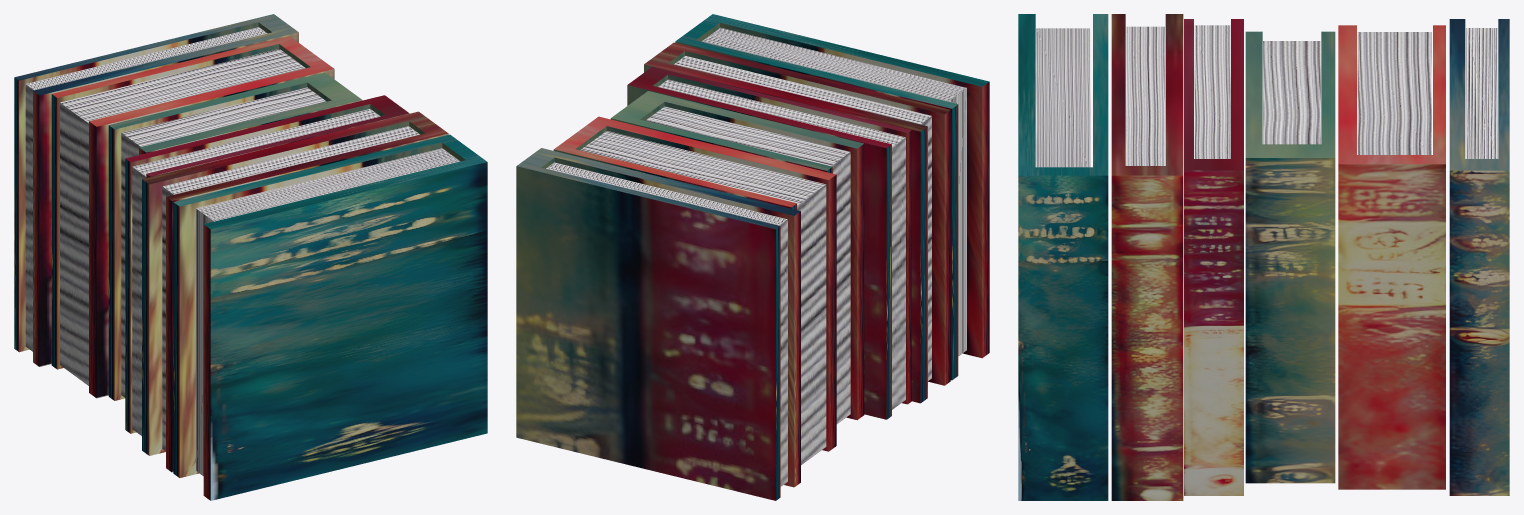
File: libros1.obj
3 views of the same model, side by side, from view 1: azimuth 30°, elevation 25°; view 2: azimuth 150°, elevation 25°; view 3: azimuth 270°, elevation 25° (orthographic). The views are drawn at different scales.
Visible parts, largest first — view 1: pCube1, pCube2, pCube11, pCube6, pCube5, pCube4, pCube7, pCube3, pCube9, pCube10, pCube12, pCube8; view 2: pCube6, pCube2, pCube1, pCube3, pCube11, pCube4, pCube5, pCube10, pCube7, pCube9, pCube12, pCube8; view 3: pCube5, pCube1, pCube4, pCube2, pCube6, pCube3, pCube11, pCube7, pCube10, pCube8, pCube9, pCube12.
Part boxes in pixels (bbox=[...]): pCube1: bbox=[173, 134, 487, 500]; pCube2: bbox=[142, 111, 448, 472]; pCube11: bbox=[60, 49, 305, 385]; pCube6: bbox=[14, 14, 298, 366]; pCube5: bbox=[51, 36, 334, 398]; pCube4: bbox=[108, 72, 362, 400]; pCube7: bbox=[196, 148, 459, 475]; pCube3: bbox=[125, 95, 409, 433]; pCube9: bbox=[132, 109, 380, 435]; pCube10: bbox=[121, 87, 326, 397]; pCube12: bbox=[25, 27, 267, 351]; pCube8: bbox=[162, 126, 419, 450]; pCube6: bbox=[516, 148, 800, 500]; pCube2: bbox=[644, 42, 950, 403]; pCube1: bbox=[675, 14, 989, 380]; pCube3: bbox=[627, 66, 911, 419]; pCube11: bbox=[580, 131, 826, 464]; pCube4: bbox=[610, 91, 864, 420]; pCube5: bbox=[553, 116, 836, 451]; pCube10: bbox=[645, 106, 850, 423]; pCube7: bbox=[702, 27, 966, 356]; pCube9: bbox=[658, 79, 905, 409]; pCube12: bbox=[546, 162, 787, 486]; pCube8: bbox=[674, 56, 931, 380]; pCube5: bbox=[1338, 25, 1445, 489]; pCube1: bbox=[1018, 14, 1108, 500]; pCube4: bbox=[1245, 31, 1335, 483]; pCube2: bbox=[1111, 14, 1183, 500]; pCube6: bbox=[1449, 19, 1509, 495]; pCube3: bbox=[1184, 19, 1243, 495]; pCube11: bbox=[1357, 32, 1431, 154]; pCube7: bbox=[1036, 28, 1090, 167]; pCube10: bbox=[1263, 41, 1320, 144]; pCube8: bbox=[1126, 26, 1164, 165]; pCube9: bbox=[1194, 25, 1230, 158]; pCube12: bbox=[1466, 28, 1497, 158].
Bounding box in the file's own units: 0.32 × 0.3 × 0.4105.
2 materials, 2 textured.
